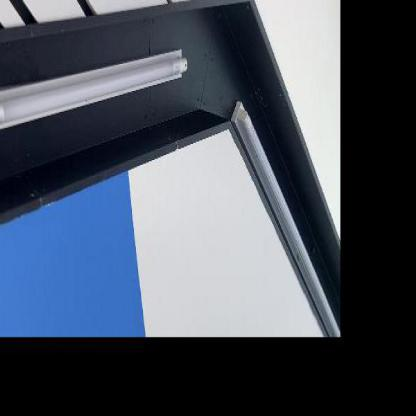light_off: (220, 85, 340, 337), (0, 23, 193, 141)
